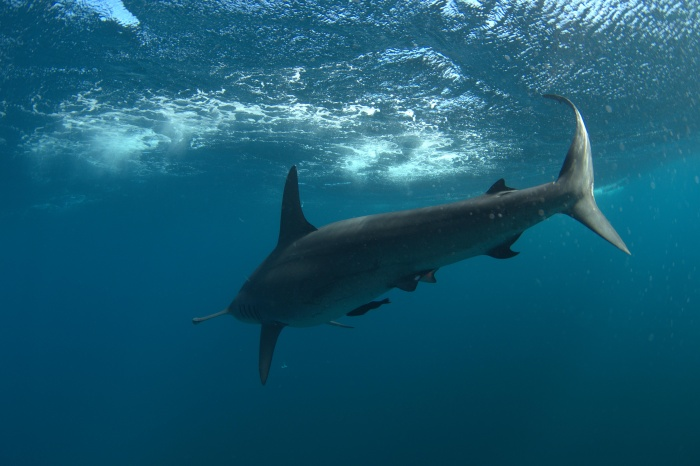Hammer: (172, 77, 662, 407)
